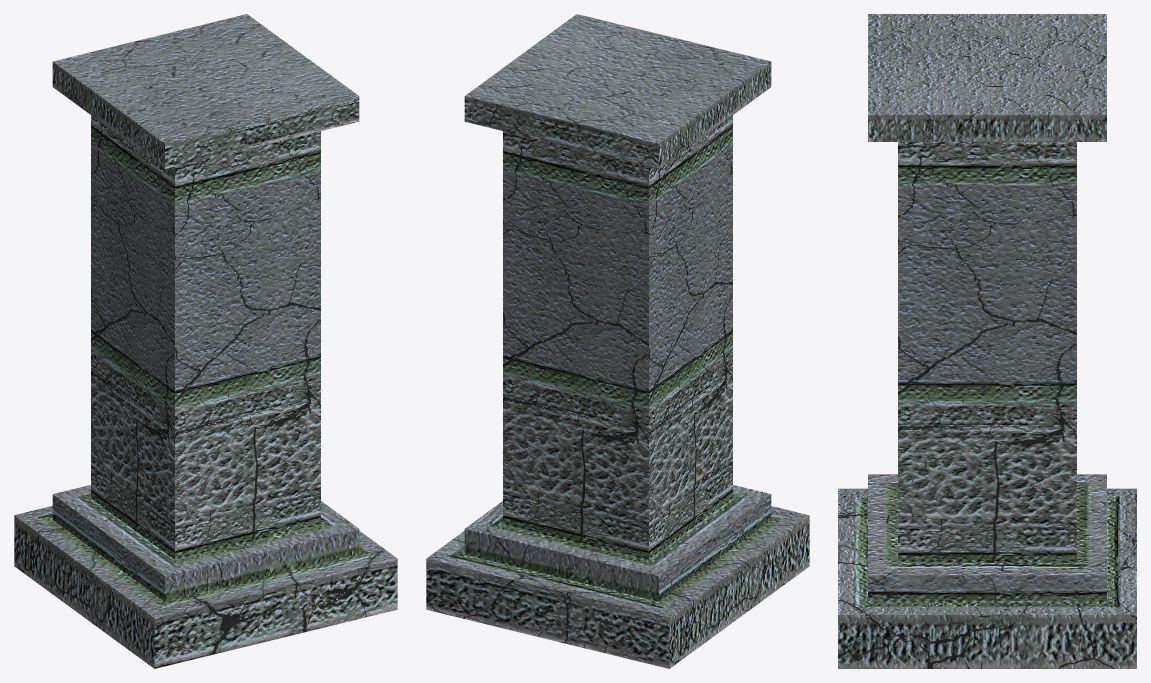
The model's file is column.fbx.
The picture shows the model from 3 angles, left to right: view 1: azimuth 30°, elevation 25°; view 2: azimuth 150°, elevation 25°; view 3: azimuth 270°, elevation 25°; orthographic projection. The views are drawn at different scales.
Parts seen in each view (by area): view 1: column; view 2: column; view 3: column.
Boxes of the visible parts, <box> form: column: <box>14,14,397,668</box>; column: <box>426,14,809,668</box>; column: <box>838,14,1136,668</box>.
Bounding box in the file's own units: 100 × 200 × 100.
